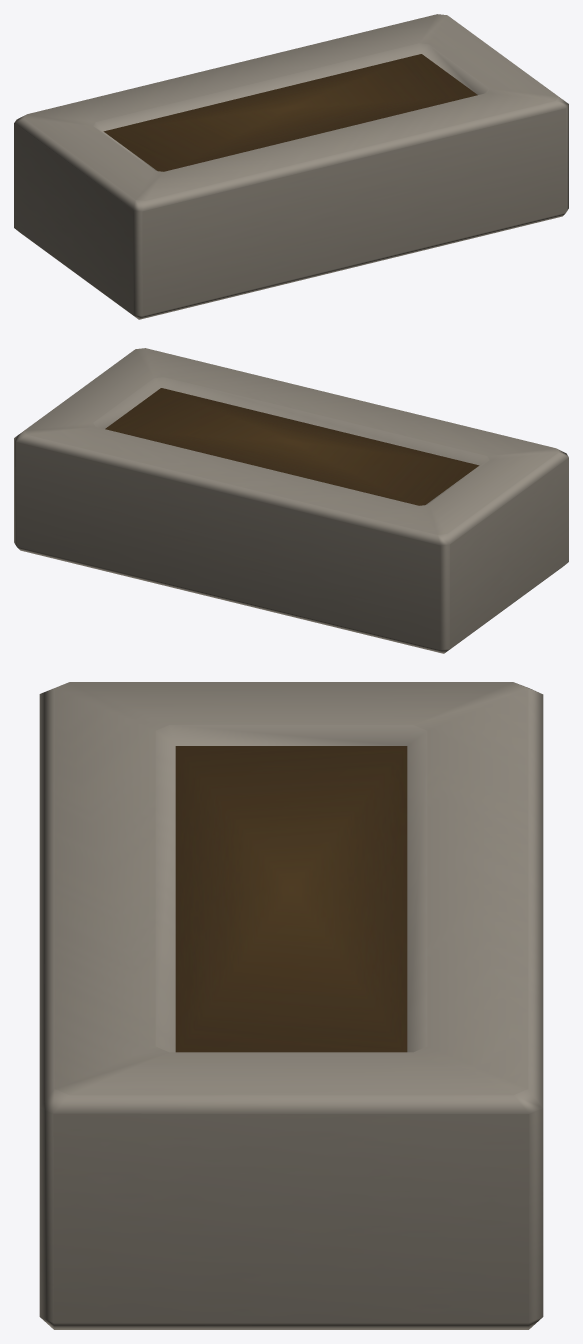
File: plant_box_concrete_2x1x05.fbx
3 views of the same model, one above another, from view 1: azimuth 30°, elevation 25°; view 2: azimuth 150°, elevation 25°; view 3: azimuth 270°, elevation 25° (orthographic). The views are drawn at different scales.
Parts seen in each view (by area): view 1: plant_box_concrete_2x1x05; view 2: plant_box_concrete_2x1x05; view 3: plant_box_concrete_2x1x05.
Boxes of the visible parts, bbox=[...] form: plant_box_concrete_2x1x05: bbox=[14, 14, 568, 319]; plant_box_concrete_2x1x05: bbox=[14, 348, 568, 653]; plant_box_concrete_2x1x05: bbox=[39, 682, 543, 1329].
Size of the model in its own units: 200 by 51.38 by 100.
